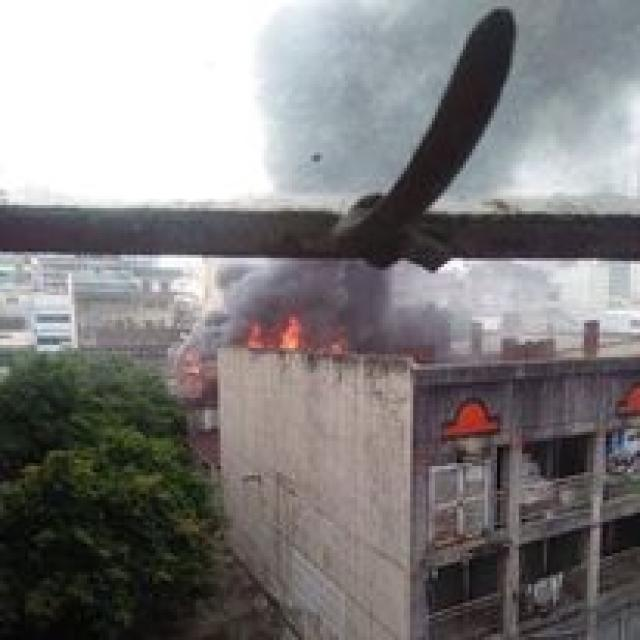Fire: (244, 308, 315, 350)
Smoke: (274, 11, 406, 190), (534, 5, 640, 202), (228, 266, 446, 355)
